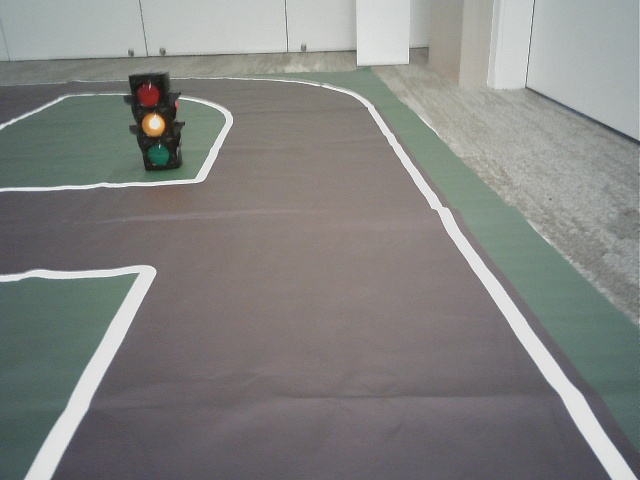yellow: (128, 76, 176, 164)
